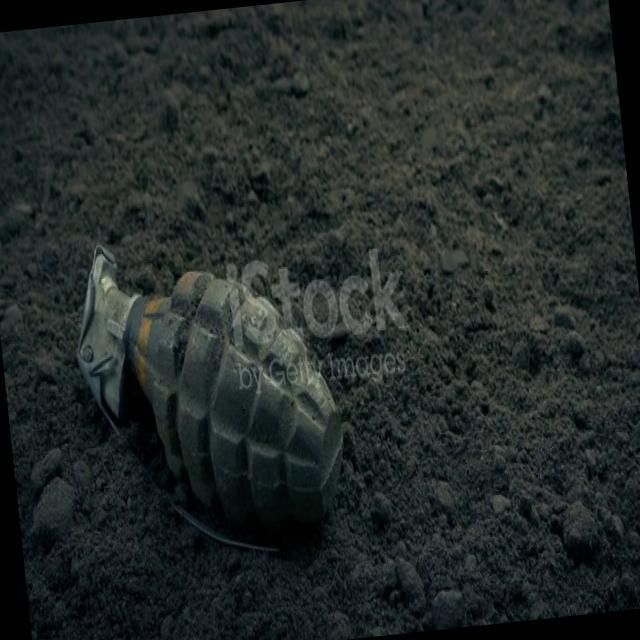grenade: (57, 217, 359, 570)
